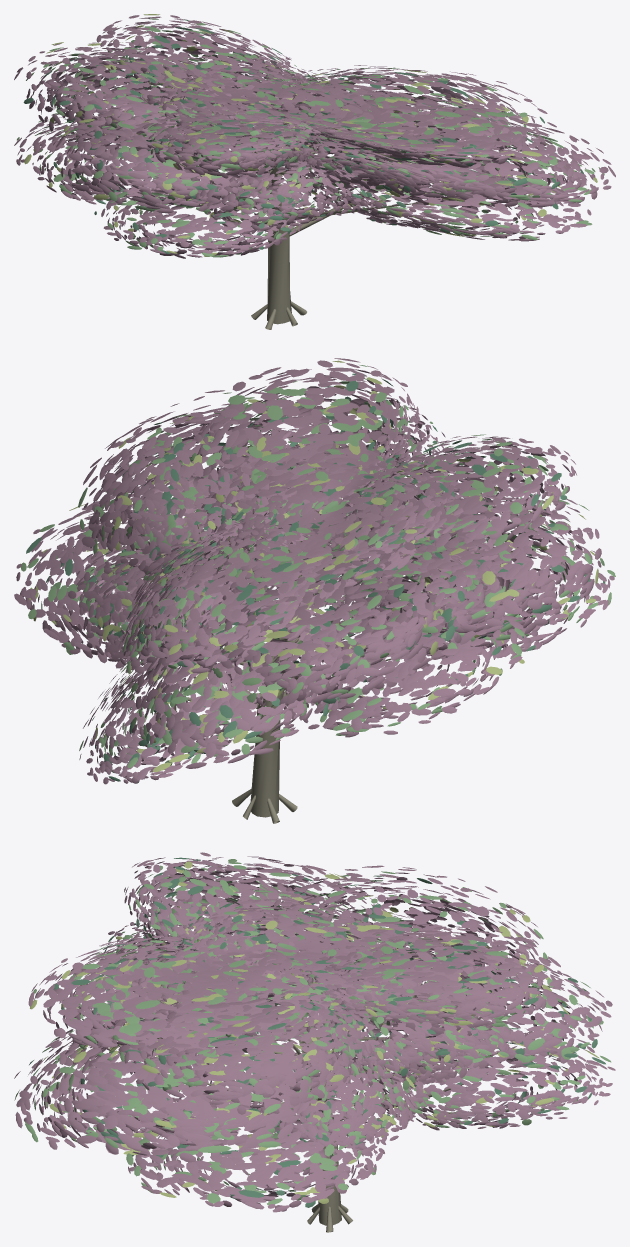
File: grove_5.glb
The picture shows the model from 3 angles, top to bottom: view 1: azimuth 30°, elevation 25°; view 2: azimuth 150°, elevation 25°; view 3: azimuth 270°, elevation 25°; orthographic projection. The views are drawn at different scales.
Parts seen in each view (by area): view 1: study_canopy_2_StudyLeafPurple, study_canopy_2_StudyLeafJade, study_canopy_2_StudyLeafDeep, study_canopy_2_StudyLeafGold, study_canopy_2_StudyBark; view 2: study_canopy_2_StudyLeafPurple, study_canopy_2_StudyLeafJade, study_canopy_2_StudyLeafDeep, study_canopy_2_StudyLeafGold, study_canopy_2_StudyBark; view 3: study_canopy_2_StudyLeafPurple, study_canopy_2_StudyLeafJade, study_canopy_2_StudyLeafDeep, study_canopy_2_StudyLeafGold, study_canopy_2_StudyBark.
Boxes of the visible parts, left/top/right/bottom form: study_canopy_2_StudyLeafPurple: left=14, top=15, right=615, bottom=258; study_canopy_2_StudyLeafJade: left=17, top=18, right=604, bottom=257; study_canopy_2_StudyLeafDeep: left=23, top=19, right=583, bottom=253; study_canopy_2_StudyLeafGold: left=24, top=14, right=597, bottom=256; study_canopy_2_StudyBark: left=122, top=71, right=420, bottom=329; study_canopy_2_StudyLeafPurple: left=14, top=358, right=614, bottom=784; study_canopy_2_StudyLeafJade: left=20, top=365, right=615, bottom=772; study_canopy_2_StudyLeafDeep: left=26, top=373, right=605, bottom=783; study_canopy_2_StudyLeafGold: left=28, top=360, right=598, bottom=772; study_canopy_2_StudyBark: left=129, top=451, right=452, bottom=823; study_canopy_2_StudyLeafPurple: left=14, top=852, right=615, bottom=1212; study_canopy_2_StudyLeafJade: left=14, top=859, right=611, bottom=1205; study_canopy_2_StudyLeafDeep: left=29, top=857, right=605, bottom=1207; study_canopy_2_StudyLeafGold: left=30, top=861, right=599, bottom=1203; study_canopy_2_StudyBark: left=146, top=920, right=475, bottom=1232.
Bounding box in the file's own units: 15.03 × 8.12 × 15.66.
